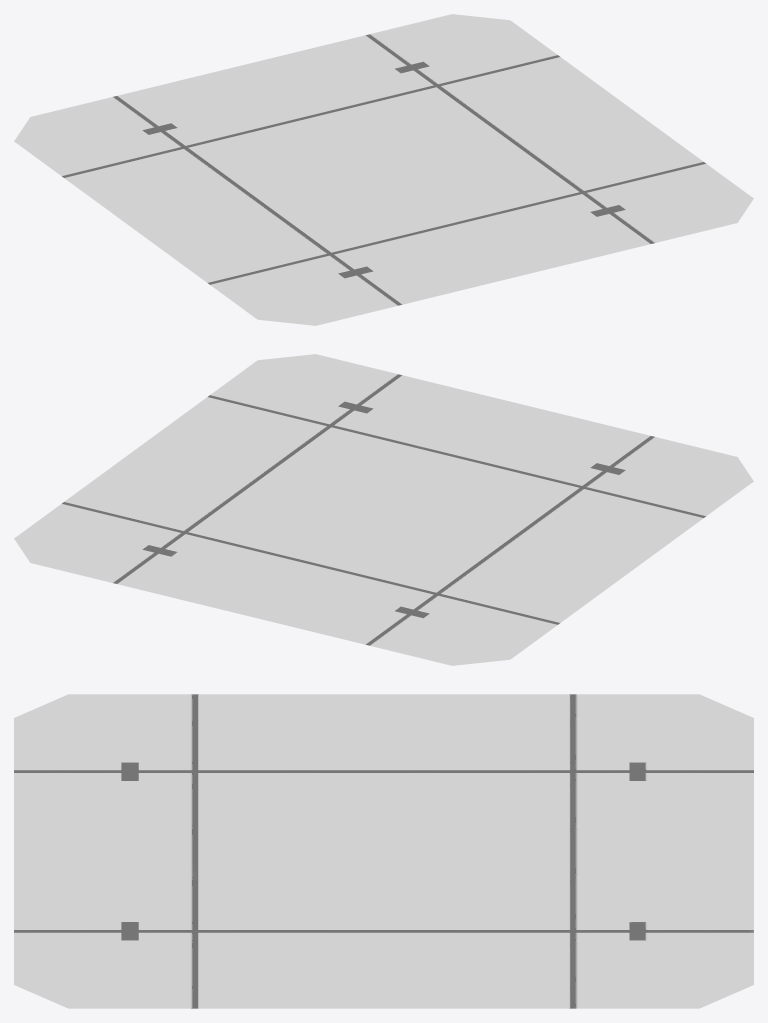
The model's file is ceiling2.fbx.
The picture shows the model from 3 angles, top to bottom: view 1: azimuth 30°, elevation 25°; view 2: azimuth 150°, elevation 25°; view 3: azimuth 270°, elevation 25°; orthographic projection. The views are drawn at different scales.
Visible parts, largest first — view 1: Plane; view 2: Plane; view 3: Plane.
Part boxes in pixels (x1,y1,x2,y2): Plane: (14, 14, 753, 325); Plane: (14, 354, 753, 665); Plane: (14, 694, 753, 1008).
Size of the model in its own units: 200 by 3.24e-05 by 199.
Materials: 1 (1 with a texture image).
